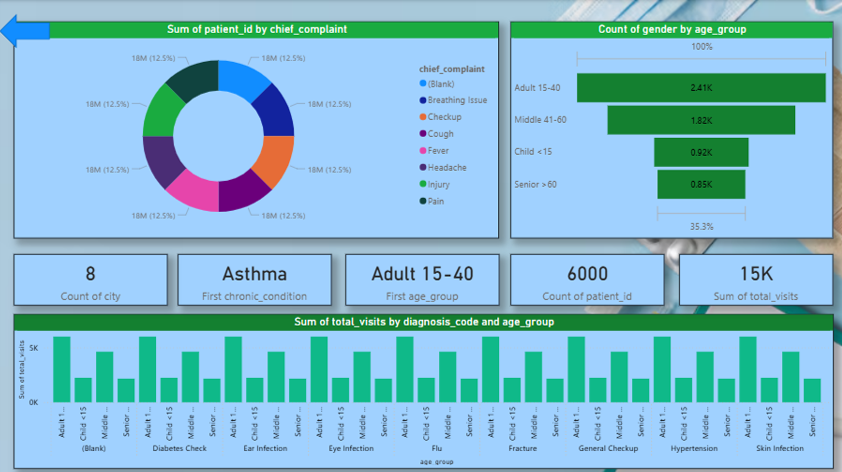

Layout of this report page (visuals, bound fields, positions):
{"tool":"powerbi","page":{"name":"Patients","canvas":[1280,720],"ordinal":2},"visuals":[{"type":"donutChart","fields":{"Y":["Sum(Patients.patient_id)"],"Category":["Symptoms_Diagnosis.chief_complaint"]},"box":[20.7,32.8,734.5,327.6],"z":0},{"type":"shape","box":[0,20.7,75.9,51.7],"z":1000},{"type":"funnel","fields":{"Y":["CountNonNull(Patients.gender)"],"Category":["Patients.age_group"]},"box":[772.4,32.8,487.9,327.6],"z":2000},{"type":"columnChart","fields":{"Category":["Symptoms_Diagnosis.diagnosis_code","Patients.age_group"],"Y":["Sum(Patients.total_visits)"]},"box":[20.7,474.1,1239.7,234.5],"z":3000},{"type":"card","fields":{"Values":["Sum(Patients.total_visits)"]},"box":[1027.6,384.5,232.8,77.6],"z":4000},{"type":"card","fields":{"Values":["CountNonNull(Patients.patient_id)"]},"box":[772.4,384.5,232.8,77.6],"z":5000},{"type":"card","fields":{"Values":["Min(Patients.age_group)"]},"box":[522.4,384.5,232.8,77.6],"z":6000},{"type":"card","fields":{"Values":["Min(Patients.chronic_condition)"]},"box":[269,384.5,232.8,77.6],"z":7000},{"type":"card","fields":{"Values":["Count(Patients.city)"]},"box":[20.7,384.5,232.8,77.6],"z":8000}]}

Visuals, with their boxes in screenshot pixels (x1, y1, x2, y2), scaled from the page's 1280x720 canvas onto the 842x472 screenshot:
donutChart - Sum(Patients.patient_id) x Symptoms_Diagnosis.chief_complaint: x1=14, y1=22, x2=497, y2=236
shape: x1=0, y1=14, x2=50, y2=47
funnel - CountNonNull(Patients.gender) x Patients.age_group: x1=508, y1=22, x2=829, y2=236
columnChart - Symptoms_Diagnosis.diagnosis_code x Patients.age_group: x1=14, y1=311, x2=829, y2=465
card - Sum(Patients.total_visits): x1=676, y1=252, x2=829, y2=303
card - CountNonNull(Patients.patient_id): x1=508, y1=252, x2=661, y2=303
card - Min(Patients.age_group): x1=344, y1=252, x2=497, y2=303
card - Min(Patients.chronic_condition): x1=177, y1=252, x2=330, y2=303
card - Count(Patients.city): x1=14, y1=252, x2=167, y2=303
